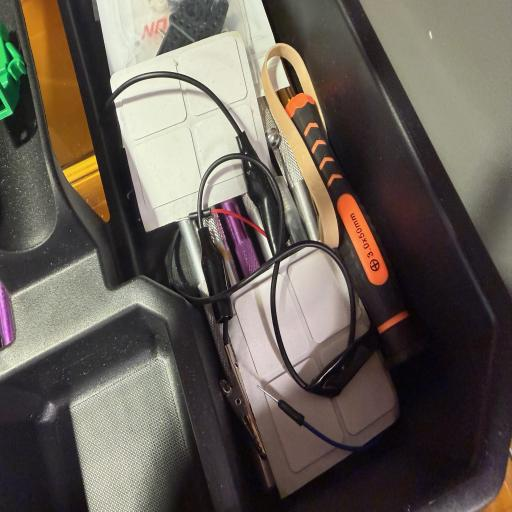Lego-Dude: (0, 21, 27, 119)
